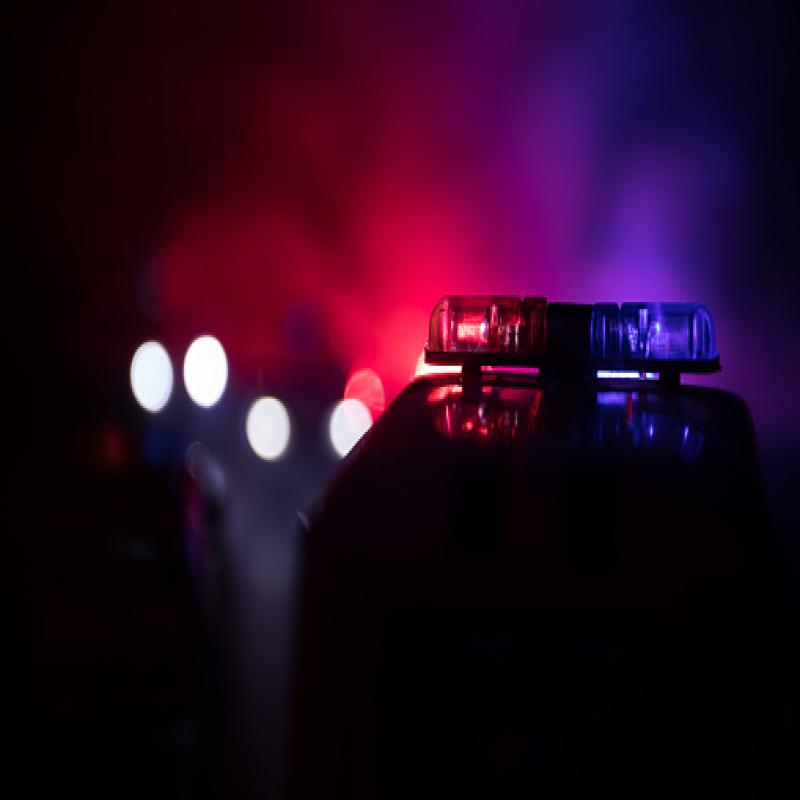AmbulanceSiren: (378, 182, 713, 398)
